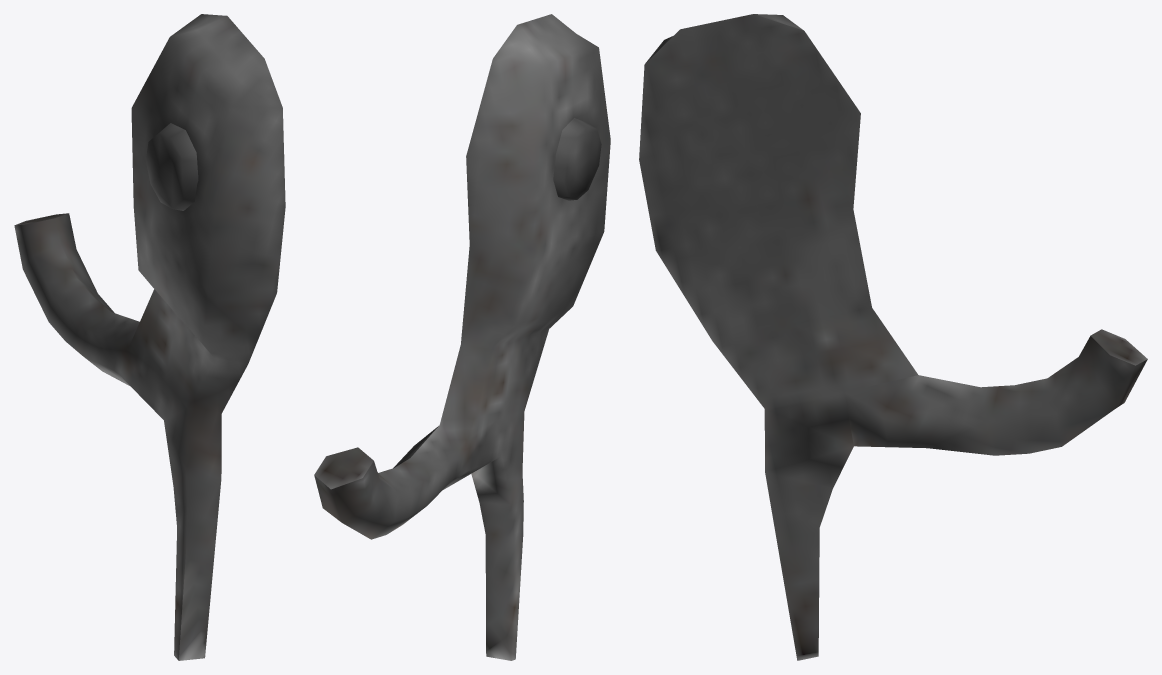
Rendered from 1875Gun_HammerCooked.fbx.
3 views of the same model, side by side, from view 1: azimuth 30°, elevation 25°; view 2: azimuth 150°, elevation 25°; view 3: azimuth 270°, elevation 25° (orthographic). The views are drawn at different scales.
Parts seen in each view (by area): view 1: Hammer.001; view 2: Hammer.001; view 3: Hammer.001.
Part boxes in pixels (bbox=[...]): Hammer.001: bbox=[14, 14, 285, 660]; Hammer.001: bbox=[314, 14, 610, 660]; Hammer.001: bbox=[639, 14, 1147, 660].
Size of the model in its own units: 0.00616 by 0.0434 by 0.0309.
